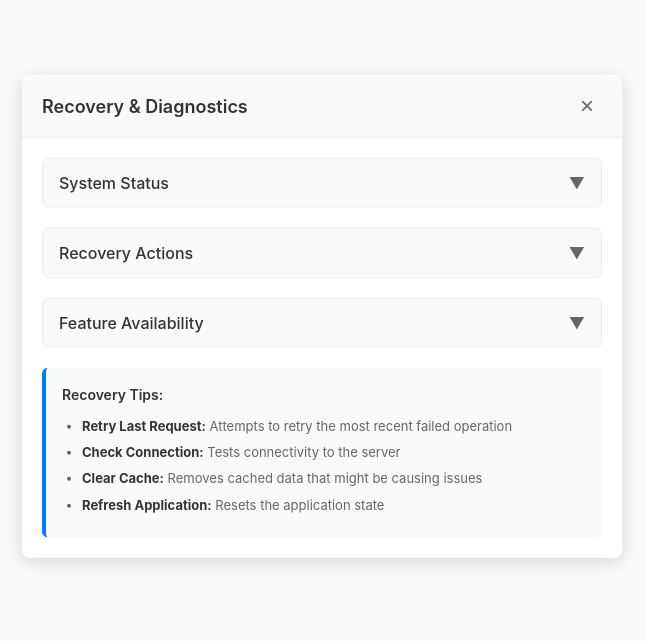
RecoveryPanel › System Status Section › should show degradation level description
The image size is (645, 641).
Click the heading "System Status": (114, 183) [59,171,169,195]
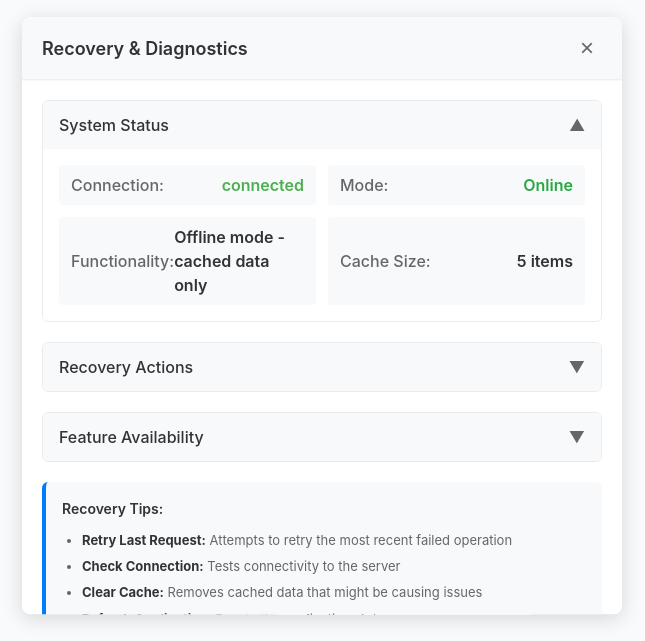
Check: the text "Offline mode - cached data only" is shown, box [174,225,304,297]
